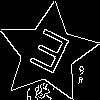E: (23, 28, 72, 83)
